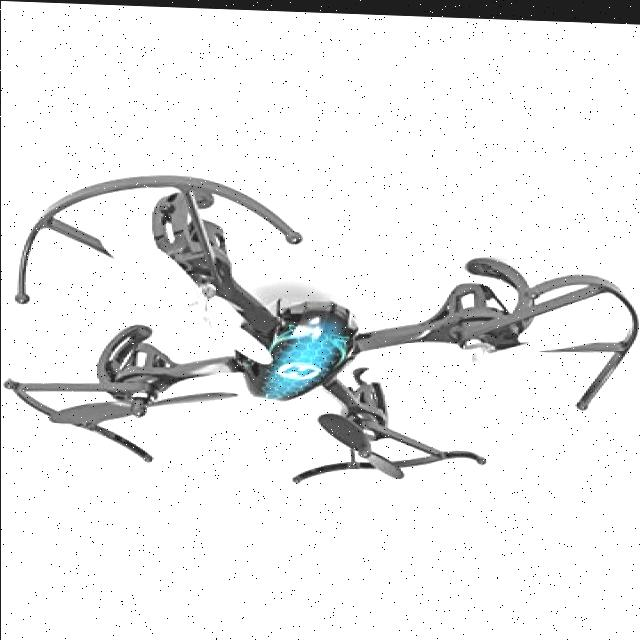drone: (3, 161, 625, 506)
